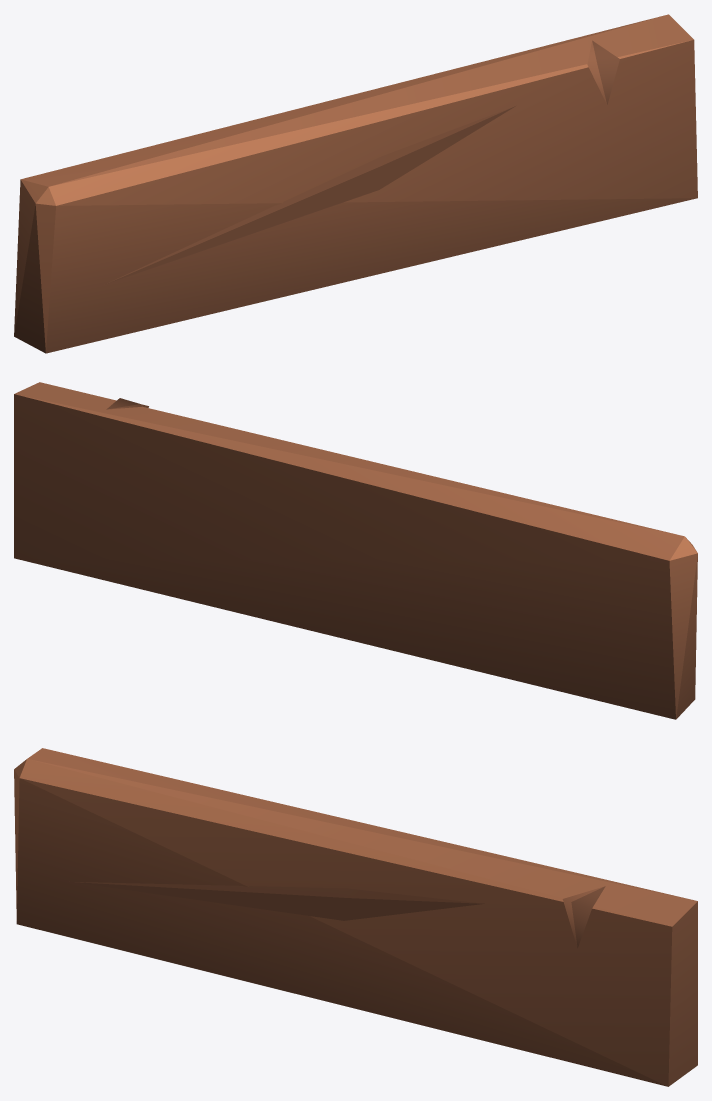
File: fencemiddle.glb
The picture shows the model from 3 angles, top to bottom: view 1: azimuth 30°, elevation 25°; view 2: azimuth 150°, elevation 25°; view 3: azimuth 330°, elevation 25°; orthographic projection.
Visible parts, largest first — view 1: fencemiddle; view 2: fencemiddle; view 3: fencemiddle.
Boxes of the visible parts, x1=… form: fencemiddle: x1=14, y1=14, x2=697, y2=353; fencemiddle: x1=14, y1=382, x2=697, y2=719; fencemiddle: x1=14, y1=748, x2=697, y2=1086.
Bounding box in the file's own units: 0.8226 × 0.195 × 0.0658.
Materials: 1 (1 with a texture image).
